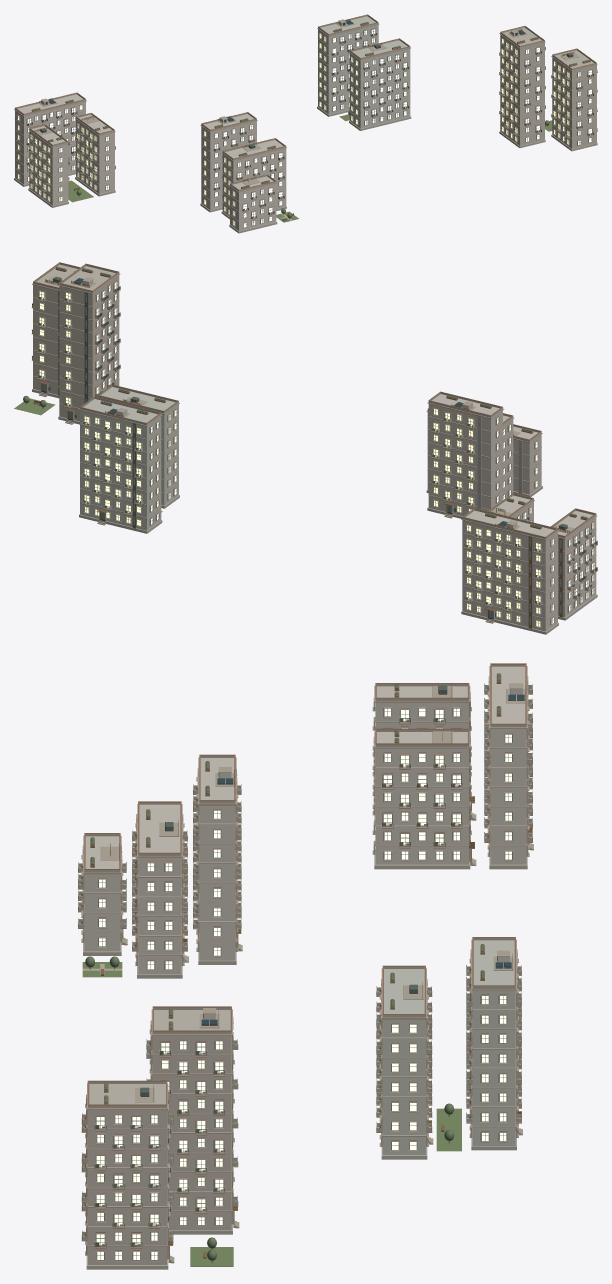
The model's file is world_housing.glb.
The picture shows the model from 3 angles, top to bottom: view 1: azimuth 30°, elevation 25°; view 2: azimuth 150°, elevation 25°; view 3: azimuth 270°, elevation 25°; orthographic projection. The views are drawn at different scales.
Visible parts, largest first — view 1: Housing_c3_2, Housing_c0_1, Housing_c2_1, Housing_c1_2, Windows_b_10_0, Windows_b_15_0, Windows_b_8_0, Windows_b_13_0; view 2: Housing_c0_1, Housing_c2_1, Housing_c3_2, Housing_c1_2, Windows_b_8_0, Windows_b_10_0, Windows_b_13_0, Windows_b_15_0; view 3: Housing_c3_2, Housing_c0_1, Housing_c1_2, Housing_c2_1, Windows_b_15_0, Windows_b_8_0, Windows_b_10_0, Windows_b_13_0.
Boxes of the visible parts, <box> form: Housing_c3_2: <box>499,26,597,151</box>; Housing_c0_1: <box>14,92,115,207</box>; Housing_c2_1: <box>317,14,411,130</box>; Housing_c1_2: <box>200,112,298,233</box>; Windows_b_10_0: <box>319,29,406,124</box>; Windows_b_15_0: <box>501,39,591,144</box>; Windows_b_8_0: <box>18,105,108,201</box>; Windows_b_13_0: <box>204,125,282,227</box>; Housing_c0_1: <box>461,493,597,634</box>; Housing_c2_1: <box>79,384,179,533</box>; Housing_c3_2: <box>14,262,120,424</box>; Housing_c1_2: <box>426,391,542,518</box>; Windows_b_8_0: <box>466,507,594,626</box>; Windows_b_10_0: <box>84,410,176,525</box>; Windows_b_13_0: <box>433,409,537,512</box>; Windows_b_15_0: <box>39,282,117,405</box>; Housing_c3_2: <box>81,1006,239,1269</box>; Housing_c0_1: <box>372,663,533,869</box>; Housing_c1_2: <box>78,754,242,978</box>; Housing_c2_1: <box>376,937,522,1159</box>; Windows_b_15_0: <box>96,1041,223,1259</box>; Windows_b_8_0: <box>383,708,511,859</box>; Windows_b_10_0: <box>392,996,506,1149</box>; Windows_b_13_0: <box>99,810,220,969</box>.
Size of the model in its own units: 154 by 31.94 by 63.41.
